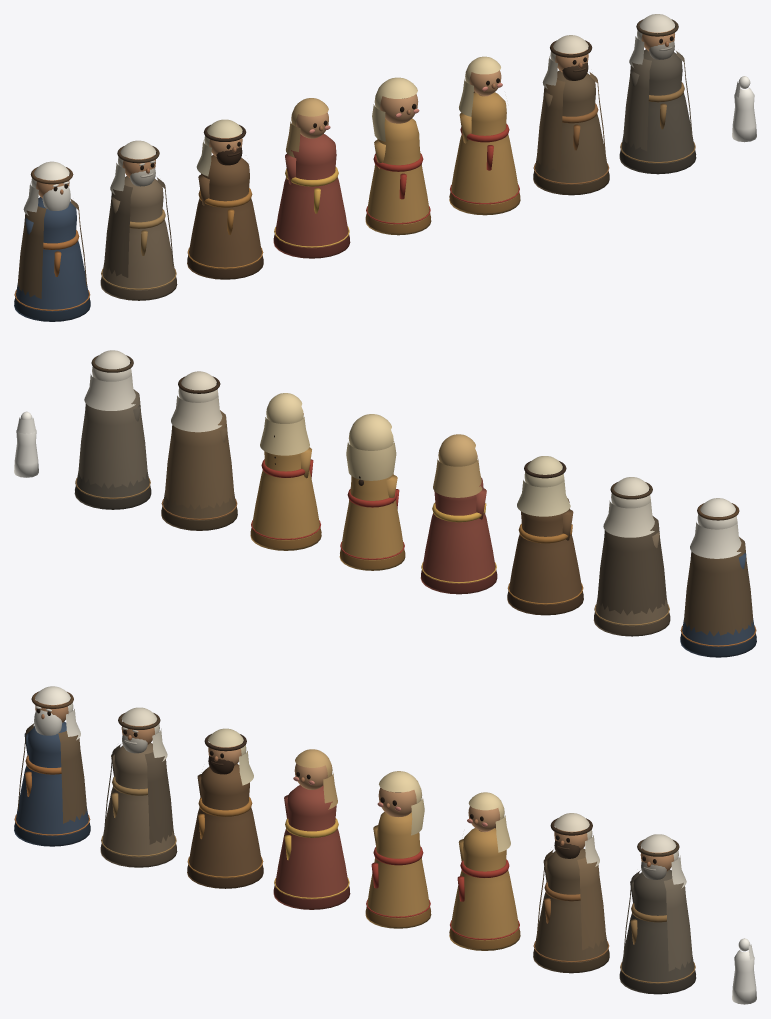
The model's file is cast.glb.
The picture shows the model from 3 angles, top to bottom: view 1: azimuth 30°, elevation 25°; view 2: azimuth 150°, elevation 25°; view 3: azimuth 330°, elevation 25°; orthographic projection.
Visible parts, largest first — view 1: mother_body, joshua_body, jacob_body, grandfather_body, elder_body, daughter_grown_body, father_body, daughter_body, crowd_silhouette, father_cover, joshua_cover, elder_cover (+2 smaller); view 2: mother_body, daughter_grown_body, daughter_body, grandfather_body, elder_body, joshua_body, jacob_body, father_body, father_cover, grandfather_cover, jacob_cover, elder_cover (+2 smaller); view 3: mother_body, joshua_body, elder_body, grandfather_body, jacob_body, daughter_grown_body, father_body, daughter_body, crowd_silhouette, father_cover, elder_cover, grandfather_cover (+2 smaller).
Part boxes in pixels (x1,y1,x2,y2): mother_body: (273,98,350,258); joshua_body: (14,176,90,321); jacob_body: (533,49,609,195); grandfather_body: (100,155,177,300); elder_body: (619,28,696,174); daughter_grown_body: (449,56,520,215); father_body: (187,134,263,279); daughter_body: (365,77,431,235); crowd_silhouette: (732,76,756,142); father_cover: (196,119,246,176); joshua_cover: (23,161,73,215); elder_cover: (629,14,679,67); mother_body: (420,434,497,594); daughter_grown_body: (250,393,321,550); daughter_body: (339,414,405,570); grandfather_body: (593,515,670,636); elder_body: (74,389,151,509); joshua_body: (680,537,756,657); jacob_body: (161,410,237,530); father_body: (507,498,583,615); father_cover: (517,456,570,516); grandfather_cover: (603,477,654,537); jacob_cover: (171,371,222,432); elder_cover: (84,350,135,410); mother_body: (273,749,350,909); joshua_body: (14,700,90,846); elder_body: (619,848,696,994); grandfather_body: (100,722,177,867); jacob_body: (533,827,609,973); daughter_grown_body: (449,792,520,950); father_body: (187,743,263,888); daughter_body: (365,771,431,928); crowd_silhouette: (732,938,756,1004); father_cover: (201,728,253,785); elder_cover: (637,834,686,888); grandfather_cover: (118,707,167,761).
Bounding box in the file's own units: 21.7 × 4.01 × 1.96.
